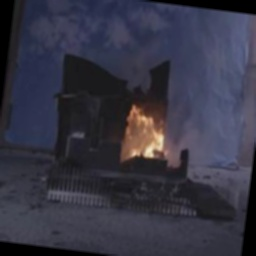fire: (111, 94, 172, 166)
